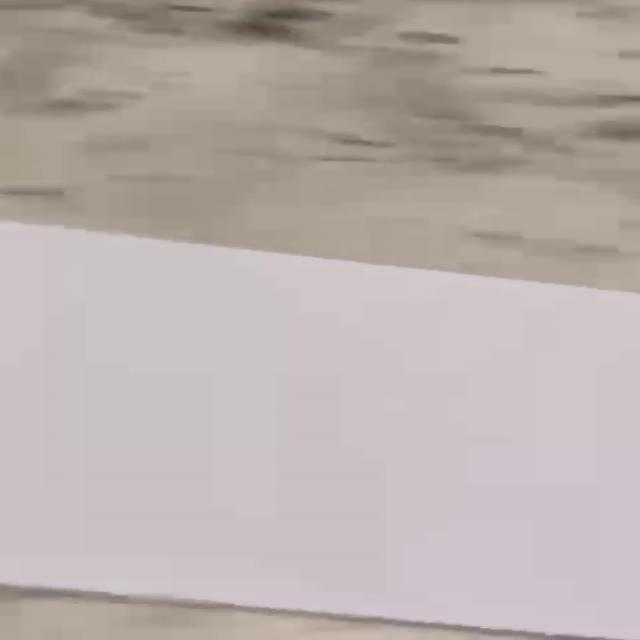road: (3, 223, 639, 640)
